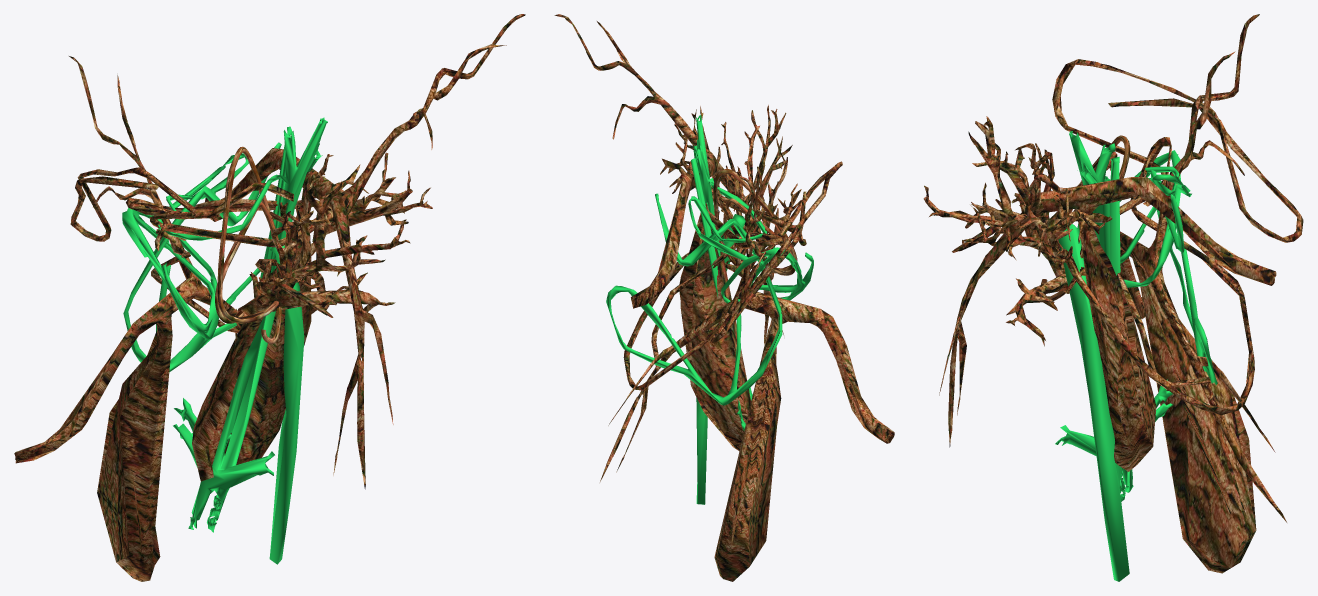
The model's file is worldtree.vines.one.glb.
3 views of the same model, side by side, from view 1: azimuth 30°, elevation 25°; view 2: azimuth 150°, elevation 25°; view 3: azimuth 270°, elevation 25° (orthographic). The views are drawn at different scales.
Visible parts, largest first — view 1: coral.008; view 2: coral.008; view 3: coral.008.
Part boxes in pixels (left/top/right/bottom): coral.008: left=14, top=14, right=525, bottom=581; coral.008: left=554, top=14, right=894, bottom=581; coral.008: left=923, top=14, right=1303, bottom=581.
Bounding box in the file's own units: 1.4 × 1.61 × 0.9787.
Materials: 3 (2 with a texture image).
